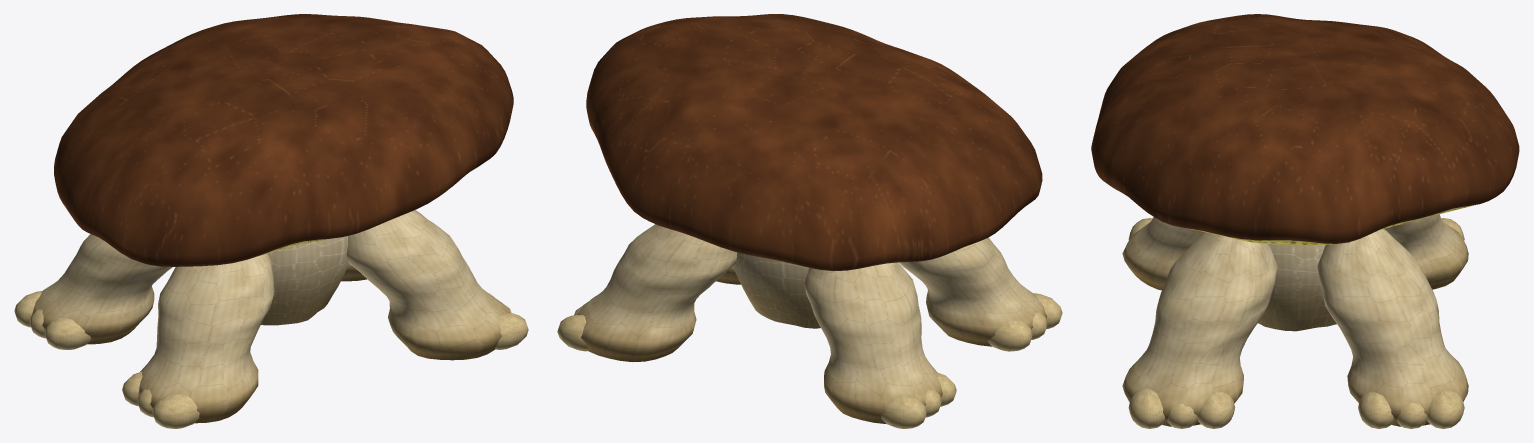
Rendered from cep_bulwark_close.glb.
3 renders of one model, left to right at view 1: azimuth 30°, elevation 25°; view 2: azimuth 150°, elevation 25°; view 3: azimuth 270°, elevation 25°, orthographic. The views are drawn at different scales.
Parts seen in each view (by area): view 1: CepBulwark_close; view 2: CepBulwark_close; view 3: CepBulwark_close.
Boxes of the visible parts, <box> form: CepBulwark_close: <box>14,14,528,428</box>; CepBulwark_close: <box>557,14,1062,428</box>; CepBulwark_close: <box>1091,14,1519,428</box>.
Bounding box in the file's own units: 2.54 × 1.62 × 2.13.
Materials: 1 (1 with a texture image).
